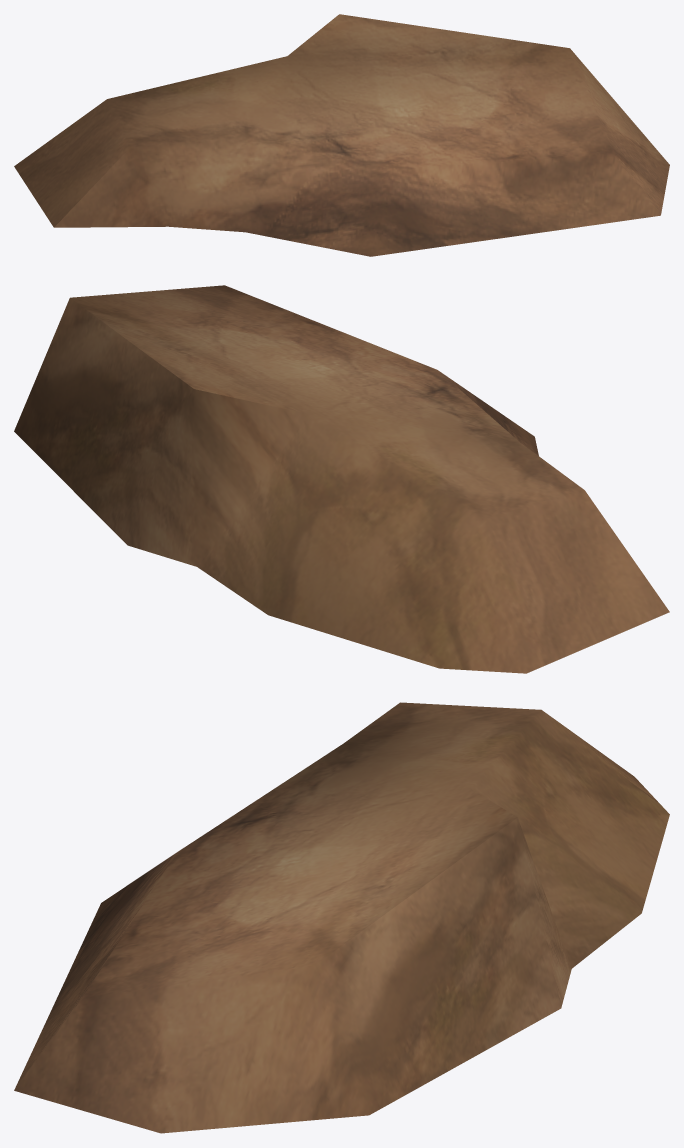
File: handan_field_d_y01e.fbx
3 views of the same model, one above another, from view 1: azimuth 30°, elevation 25°; view 2: azimuth 150°, elevation 25°; view 3: azimuth 270°, elevation 25° (orthographic). The views are drawn at different scales.
Visible parts, largest first — view 1: handan_field_d_y01e; view 2: handan_field_d_y01e; view 3: handan_field_d_y01e.
Boxes of the visible parts, box(x1,y1,x2,y2) form: handan_field_d_y01e: box(14, 14, 669, 256); handan_field_d_y01e: box(14, 285, 669, 673); handan_field_d_y01e: box(14, 702, 669, 1133).
Bounding box in the file's own units: 183 × 37.53 × 134.
